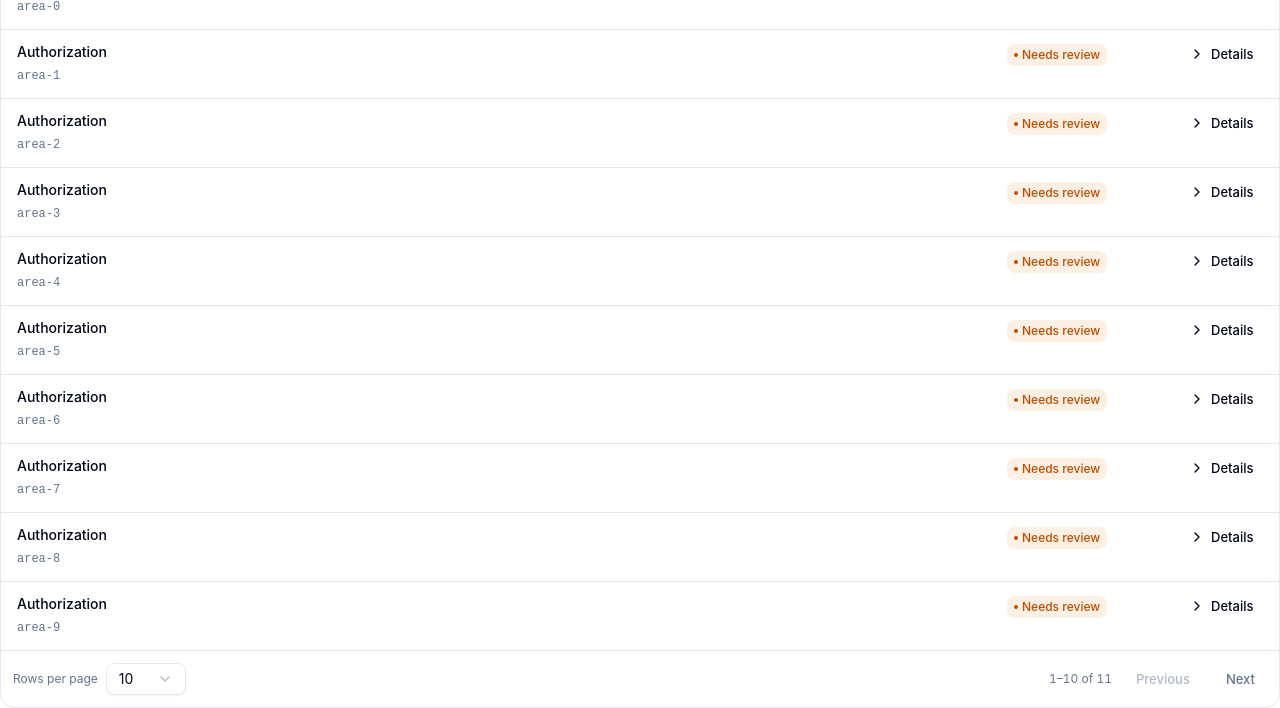
Test: paginates bounded coverage and flags omitted details
(page scrolled)
Click the button "Next" at {"x": 1240, "y": 678}, box [1214,662,1267,694]
(page scrolled)
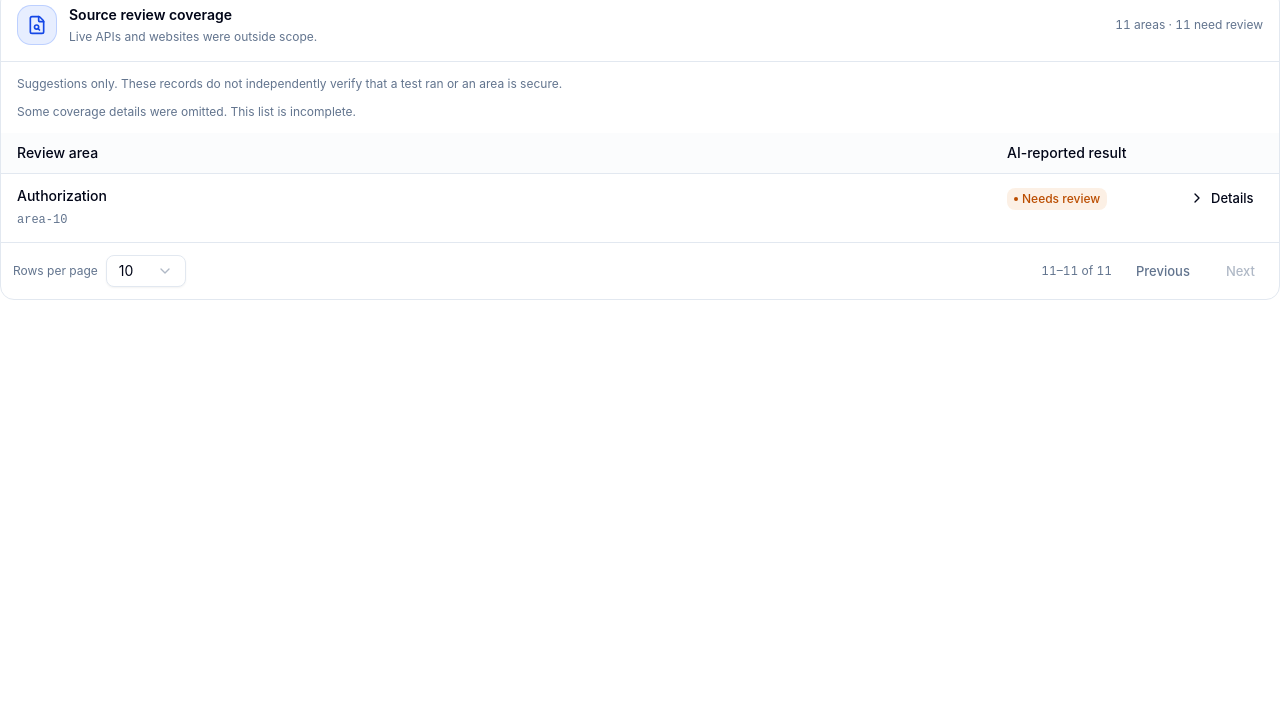
expect the text "area-10" is shown: met, box [17,212,67,226]
Click the button "Previous" at {"x": 1163, "y": 270}, box [1124,254,1202,286]
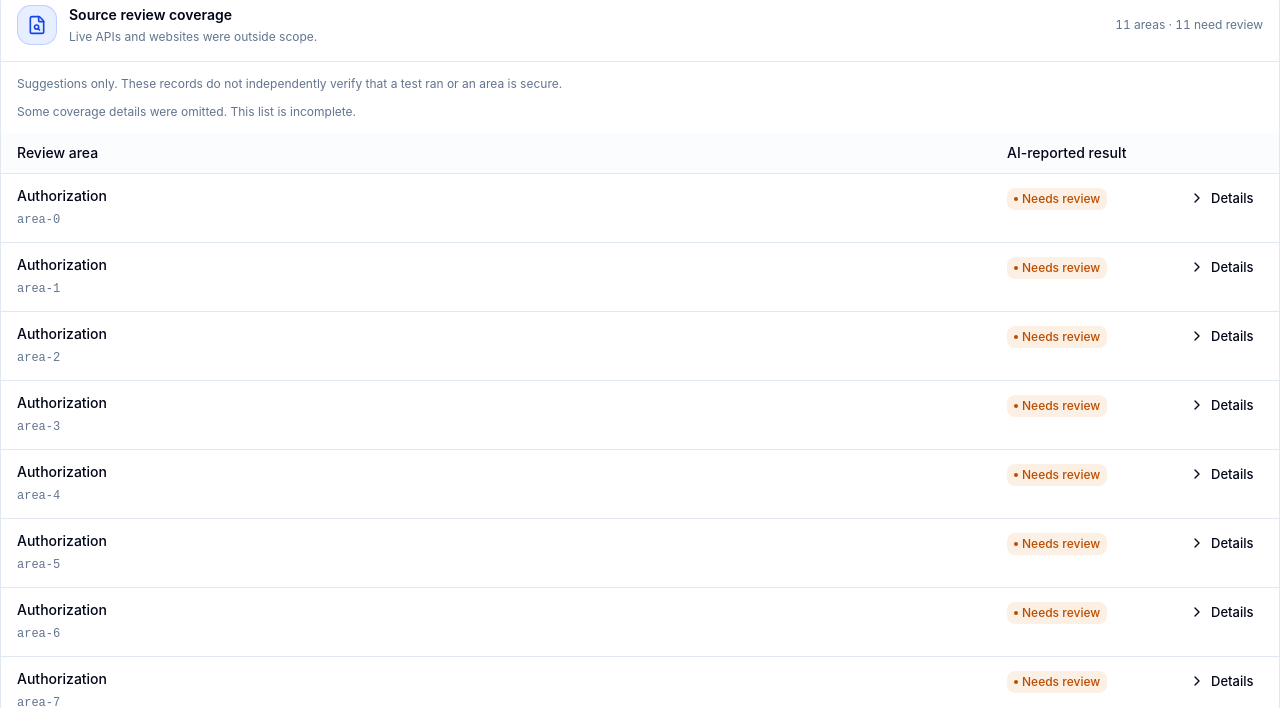
expect the text "area-0" is shown: met, box [17,212,60,226]
